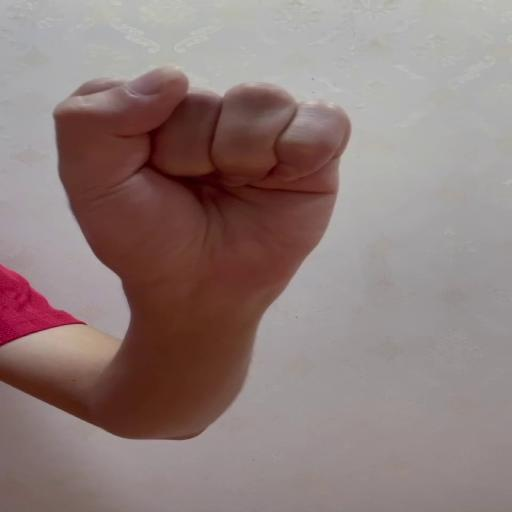fist: (50, 61, 354, 287)
